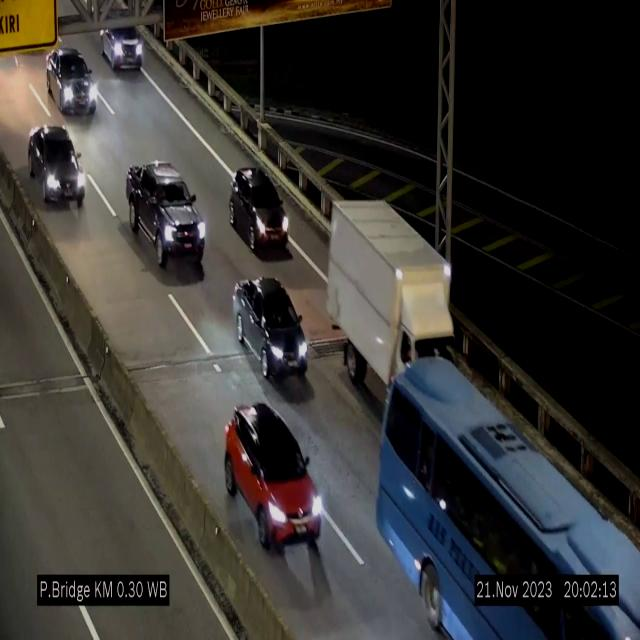Bus: (371, 350, 640, 640)
Car: (224, 405, 324, 547), (123, 148, 206, 274), (232, 277, 308, 389), (222, 163, 292, 254), (23, 123, 91, 205), (44, 44, 104, 122), (101, 27, 143, 71)
Truck: (323, 197, 465, 430)
